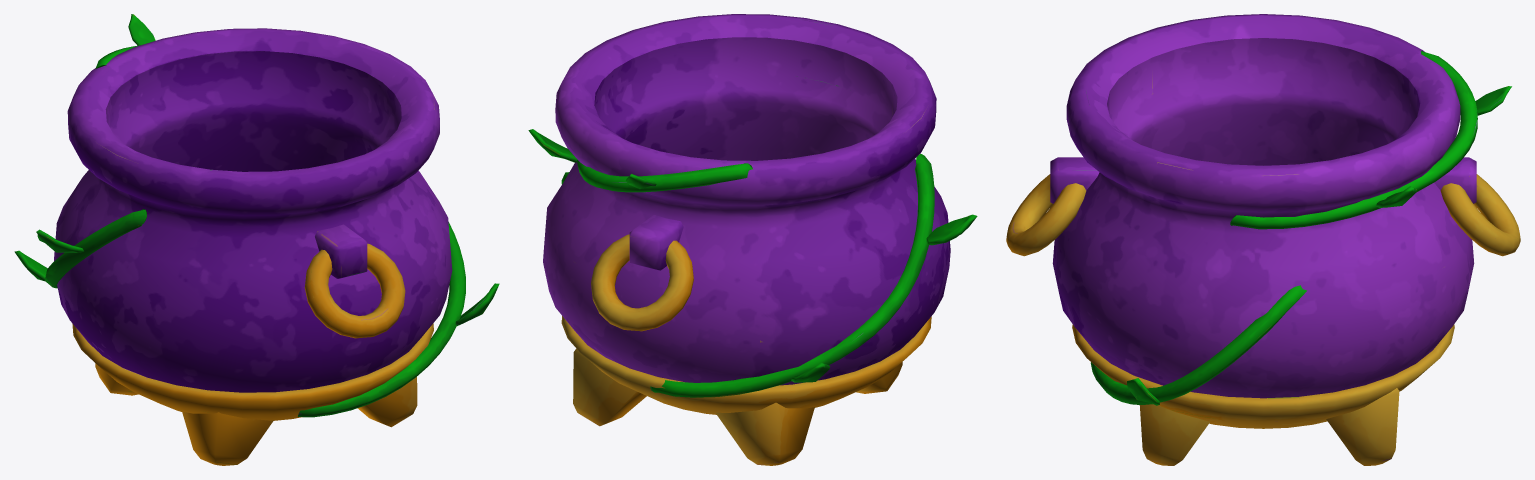
The model's file is kazanyeni.fbx.
The picture shows the model from 3 angles, left to right: view 1: azimuth 30°, elevation 25°; view 2: azimuth 150°, elevation 25°; view 3: azimuth 270°, elevation 25°; orthographic projection. The views are drawn at different scales.
Parts seen in each view (by area): view 1: Sphere.004; view 2: Sphere.004; view 3: Sphere.004.
Part boxes in pixels (x1=…): Sphere.004: x1=14, y1=14, x2=499, y2=465; Sphere.004: x1=528, y1=14, x2=977, y2=465; Sphere.004: x1=1006, y1=14, x2=1520, y2=465.
Size of the model in its own units: 1.52 by 1.12 by 1.57.
Materials: 1 (1 with a texture image).
